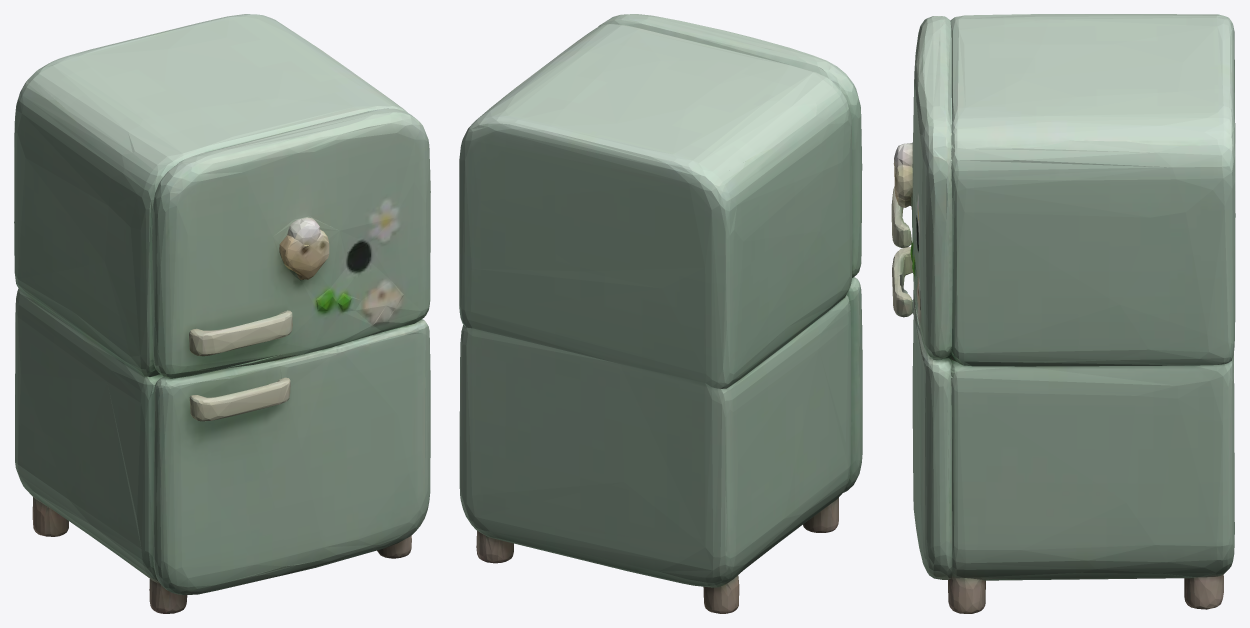
File: kitchen.glb
3 renders of one model, left to right at view 1: azimuth 30°, elevation 25°; view 2: azimuth 150°, elevation 25°; view 3: azimuth 270°, elevation 25°, orthographic. The views are drawn at different scales.
Visible parts, largest first — view 1: geometry_0; view 2: geometry_0; view 3: geometry_0.
Part boxes in pixels (<box>): geometry_0: <box>14,14,430,613</box>; geometry_0: <box>459,14,862,613</box>; geometry_0: <box>891,14,1235,613</box>.
Bounding box in the file's own units: 0.6393 × 0.9998 × 0.646.
Materials: 1 (1 with a texture image).
